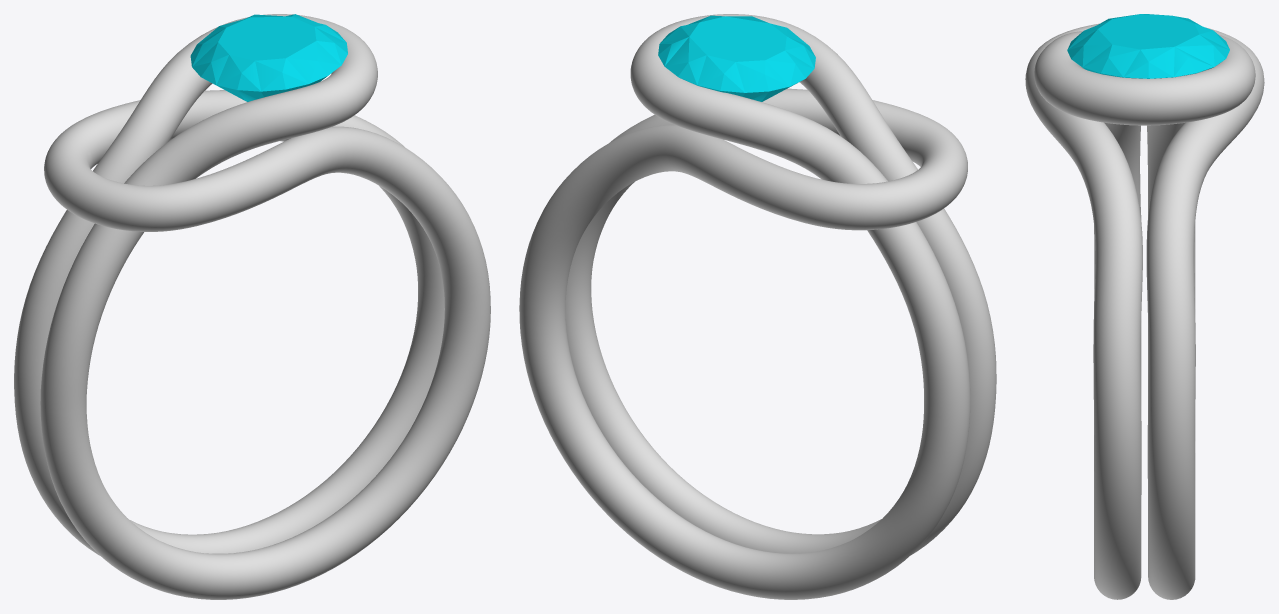
File: RingKnot.glb
3 renders of one model, left to right at view 1: azimuth 30°, elevation 25°; view 2: azimuth 150°, elevation 25°; view 3: azimuth 270°, elevation 25°, orthographic. The views are drawn at different scales.
Visible parts, largest first — view 1: RingKnot, MarkerGem; view 2: RingKnot, MarkerGem; view 3: RingKnot, MarkerGem.
Part boxes in pixels (box(x1,y1,x2,y2)): RingKnot: box(14, 14, 490, 599); MarkerGem: box(190, 14, 347, 101); RingKnot: box(519, 14, 996, 599); MarkerGem: box(658, 15, 815, 101); RingKnot: box(1025, 23, 1264, 599); MarkerGem: box(1067, 14, 1229, 78).
Size of the model in its own units: 0.976 by 1.14 by 0.443.
